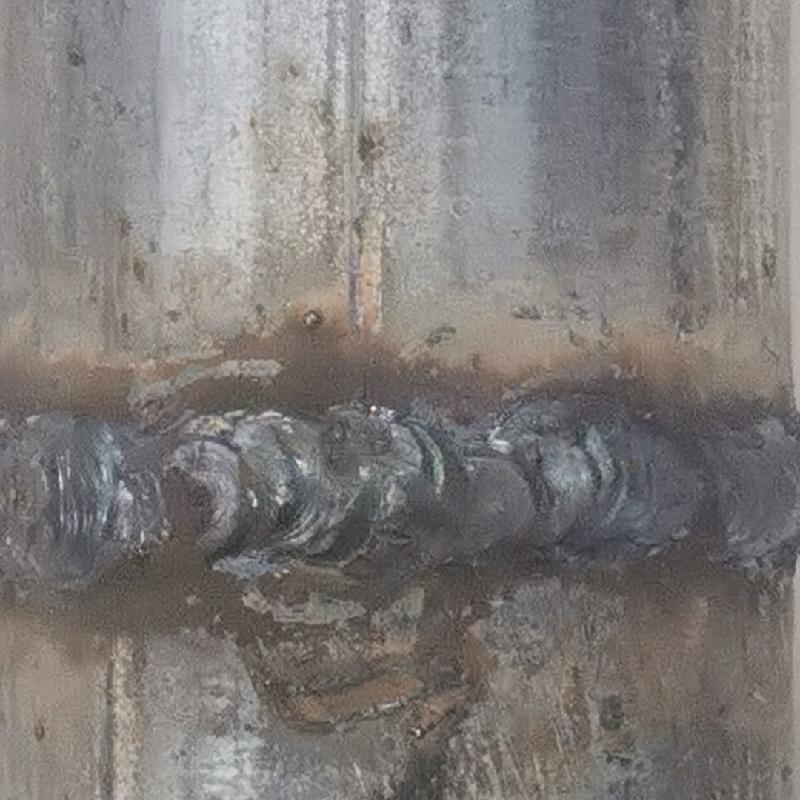good: (2, 395, 799, 609)
